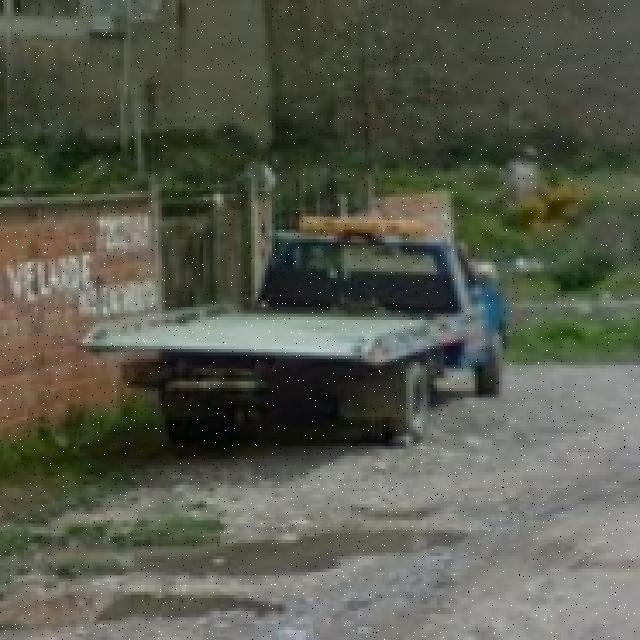cars: (128, 226, 520, 458)
